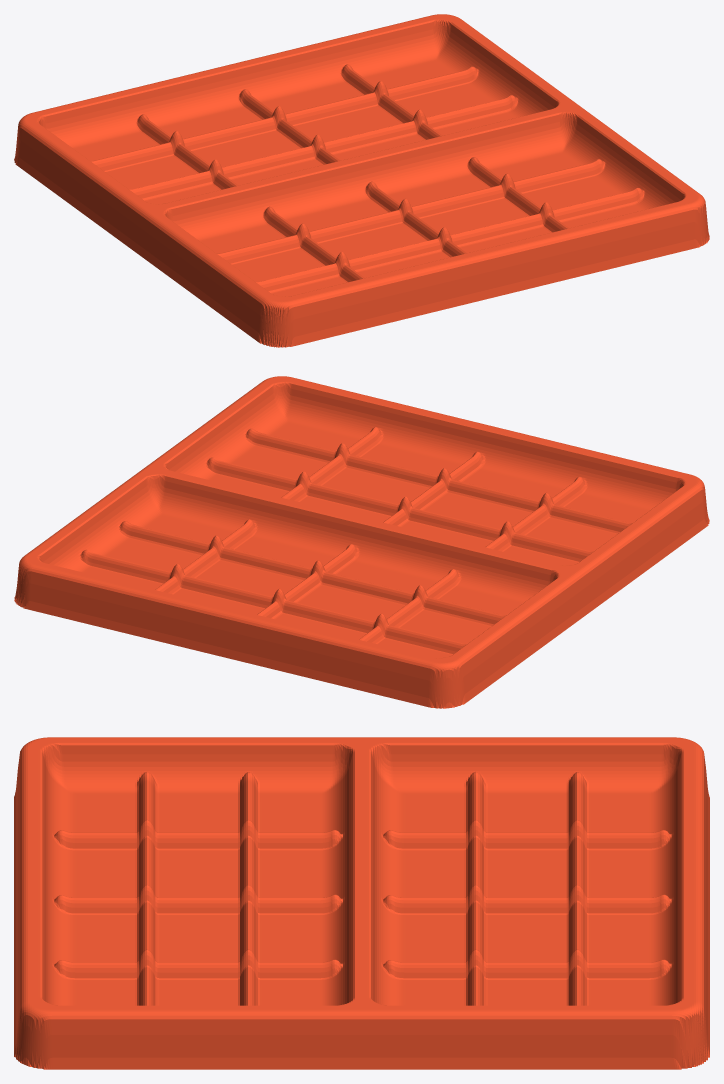
The model's file is mold.glb.
3 views of the same model, one above another, from view 1: azimuth 30°, elevation 25°; view 2: azimuth 150°, elevation 25°; view 3: azimuth 270°, elevation 25° (orthographic). The views are drawn at different scales.
Parts seen in each view (by area): view 1: geometry_0; view 2: geometry_0; view 3: geometry_0.
Part boxes in pixels (box(x1,y1,x2,y2)): geometry_0: box(14, 14, 709, 347); geometry_0: box(14, 376, 709, 708); geometry_0: box(14, 737, 709, 1069).
Bounding box in the file's own units: 0.167 × 0.0145 × 0.1725.
